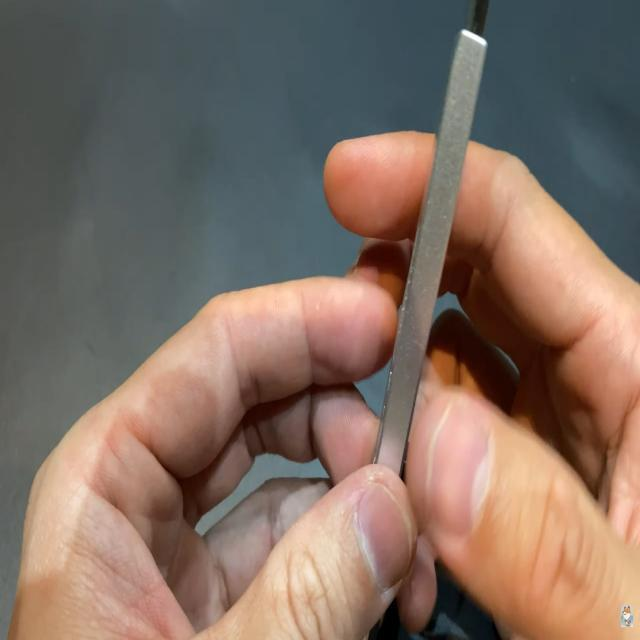cutter: (300, 0, 639, 636)
